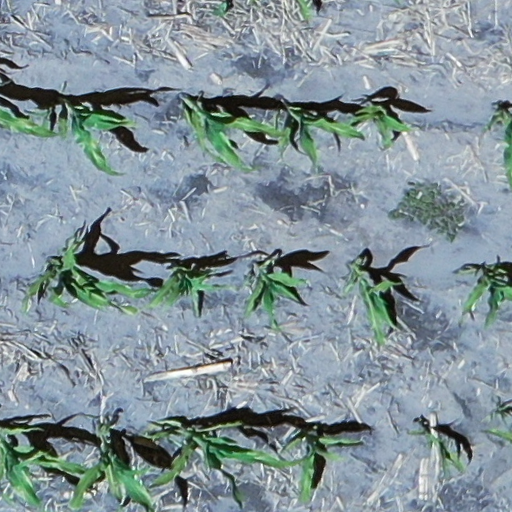planta: (144, 420, 303, 503), (23, 224, 152, 314), (180, 97, 294, 172), (70, 423, 157, 510), (279, 436, 361, 504), (145, 265, 236, 321), (344, 260, 402, 346), (69, 105, 137, 176), (287, 106, 367, 166), (244, 260, 308, 331), (457, 262, 511, 328), (405, 428, 466, 477), (347, 105, 413, 146)
